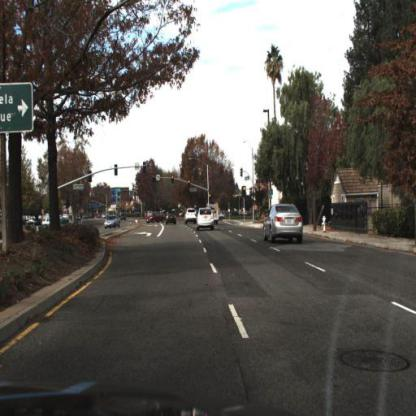car: (264, 201, 305, 248), (196, 206, 217, 235), (183, 206, 199, 229), (104, 215, 122, 231), (165, 211, 178, 227)
trafficLight: (208, 188, 213, 202)
trafficLight-Red: (241, 184, 247, 200), (171, 172, 176, 188), (188, 183, 193, 195)
trafficLight-RedLeft: (153, 172, 158, 185)
